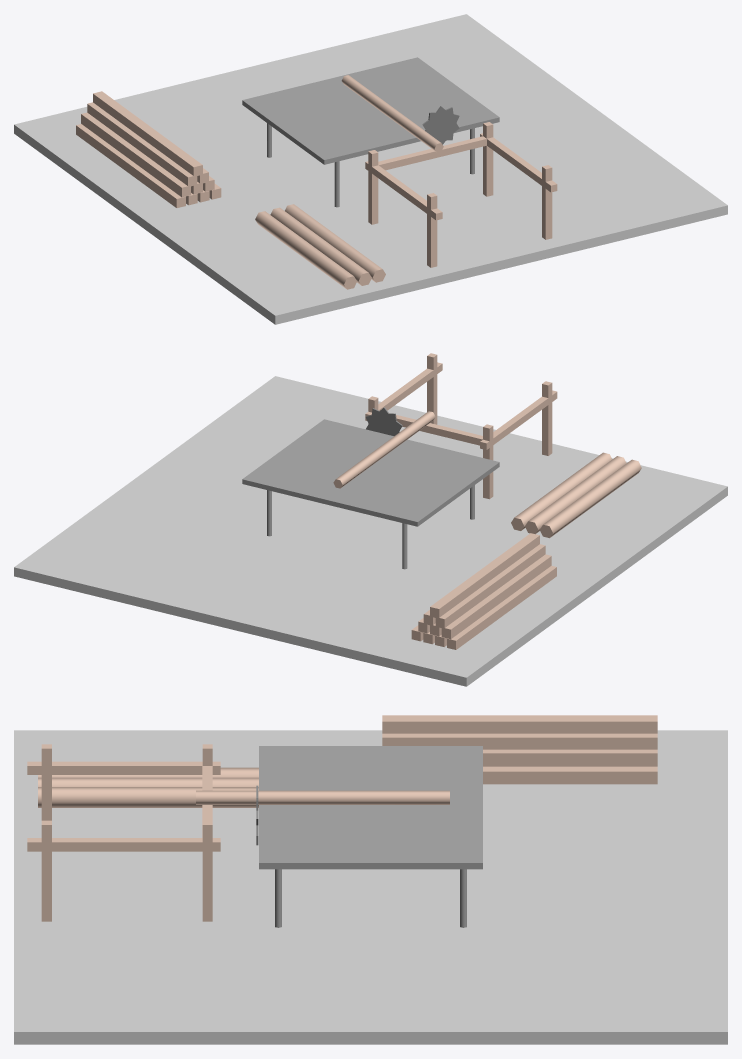
File: machine 1.fbx
3 views of the same model, one above another, from view 1: azimuth 30°, elevation 25°; view 2: azimuth 150°, elevation 25°; view 3: azimuth 270°, elevation 25° (orthographic). The views are drawn at different scales.
Visible parts, largest first — view 1: polySurface28, polySurface27, polySurface11, polySurface9, polySurface4, polySurface26, polySurface1, polySurface10, polySurface25, polySurface20, polySurface12, polySurface19 (+6 smaller); view 2: polySurface28, polySurface27, polySurface11, polySurface9, polySurface4, polySurface26, polySurface1, polySurface10, polySurface25, polySurface20, polySurface18, polySurface17 (+5 smaller); view 3: polySurface28, polySurface27, polySurface11, polySurface2, polySurface20, polySurface25, polySurface6, polySurface3, polySurface17, polySurface18, polySurface10, polySurface13 (+3 smaller).
Part boxes in pixels (<box>): polySurface28: <box>14,14,727,324</box>; polySurface27: <box>242,57,499,164</box>; polySurface11: <box>93,91,202,175</box>; polySurface9: <box>255,211,357,289</box>; polySurface4: <box>81,112,190,197</box>; polySurface26: <box>76,124,185,207</box>; polySurface1: <box>87,102,197,186</box>; polySurface10: <box>270,207,371,285</box>; polySurface25: <box>285,204,385,282</box>; polySurface20: <box>341,75,443,152</box>; polySurface12: <box>378,136,486,170</box>; polySurface19: <box>422,106,459,144</box>; polySurface28: <box>14,376,727,686</box>; polySurface27: <box>242,419,499,526</box>; polySurface11: <box>430,533,539,618</box>; polySurface9: <box>540,459,641,538</box>; polySurface4: <box>441,554,551,639</box>; polySurface26: <box>447,565,556,649</box>; polySurface1: <box>435,544,545,628</box>; polySurface10: <box>525,456,626,534</box>; polySurface25: <box>511,452,612,530</box>; polySurface20: <box>333,411,435,488</box>; polySurface18: <box>480,390,557,449</box>; polySurface17: <box>365,362,442,420</box>; polySurface28: <box>14,730,727,1044</box>; polySurface27: <box>259,746,482,869</box>; polySurface11: <box>382,715,657,733</box>; polySurface2: <box>382,733,657,749</box>; polySurface20: <box>196,790,449,804</box>; polySurface25: <box>38,787,258,807</box>; polySurface6: <box>483,766,657,784</box>; polySurface3: <box>483,749,657,766</box>; polySurface17: <box>27,838,220,851</box>; polySurface18: <box>27,761,220,774</box>; polySurface10: <box>38,777,258,786</box>; polySurface13: <box>41,820,51,921</box>.
Size of the model in its own units: 14.94 by 2.88 by 14.94.
